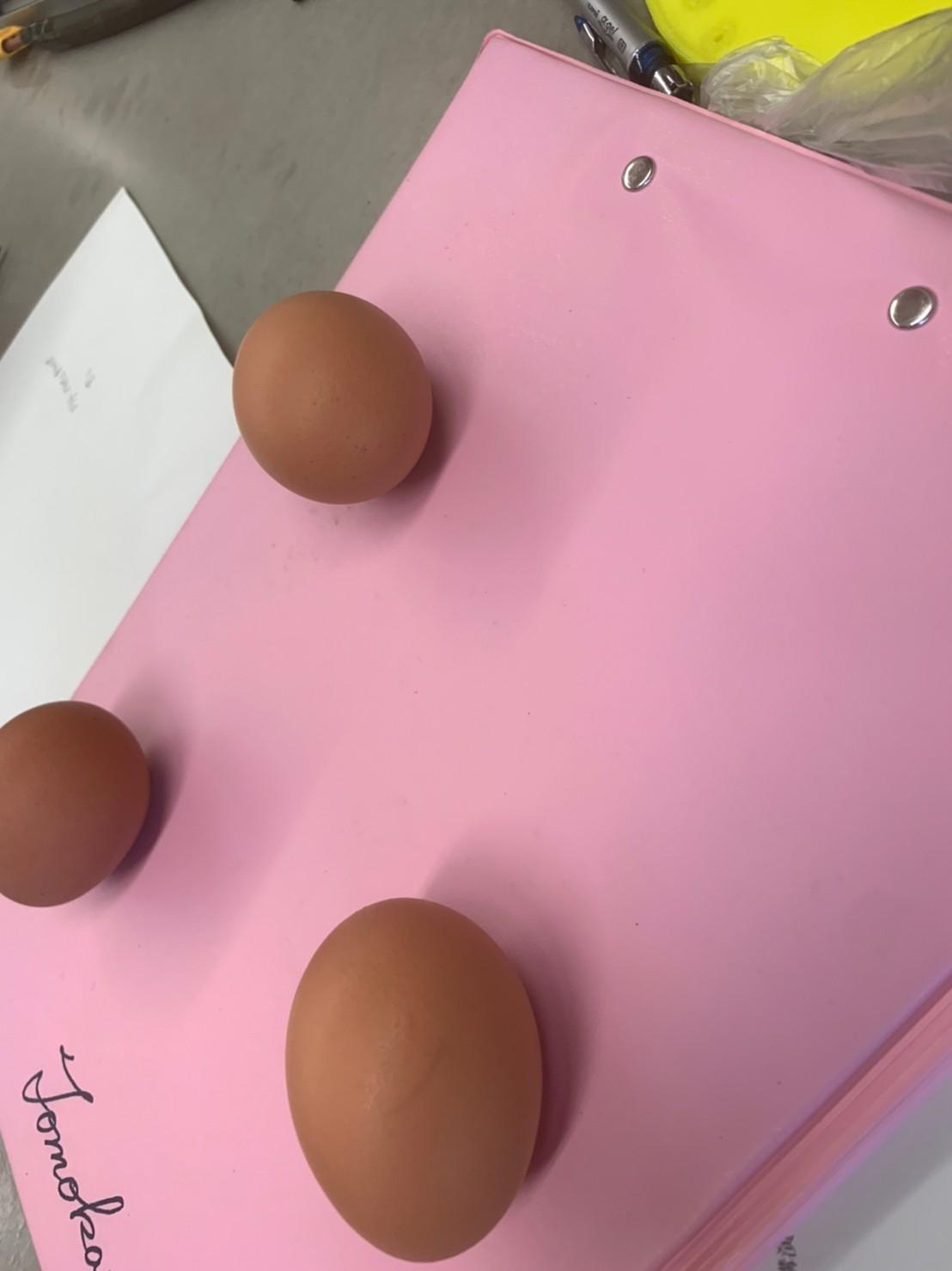egg: (276, 885, 548, 1271), (225, 290, 433, 496), (0, 691, 162, 918)
